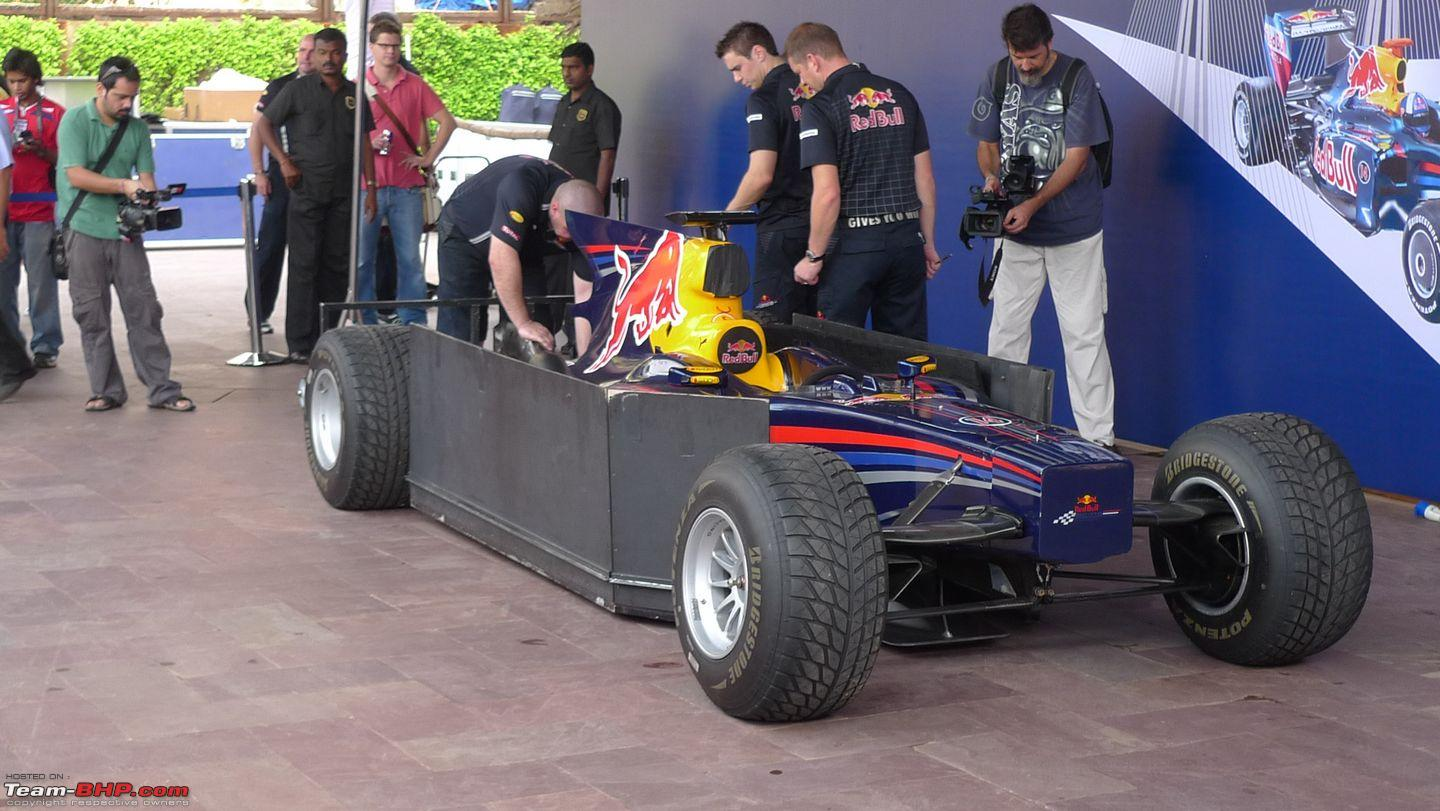f1_car: (296, 195, 1403, 746)
